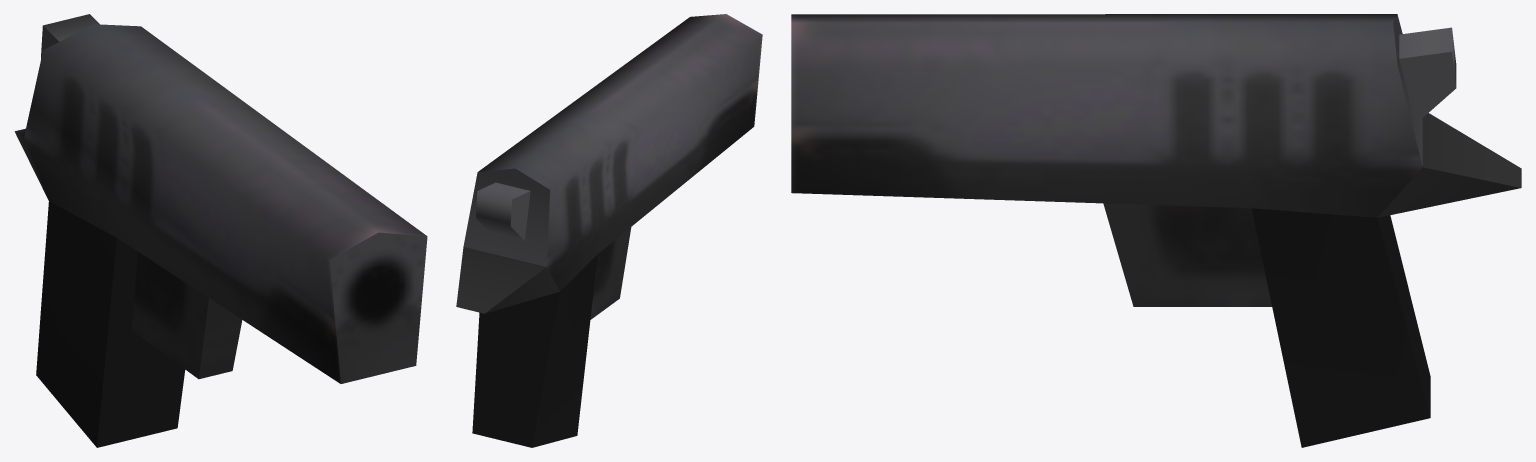
The model's file is w_handgun.FBX.
The picture shows the model from 3 angles, left to right: view 1: azimuth 30°, elevation 25°; view 2: azimuth 150°, elevation 25°; view 3: azimuth 270°, elevation 25°; orthographic projection. The views are drawn at different scales.
Parts seen in each view (by area): view 1: w_handgun; view 2: w_handgun; view 3: w_handgun.
Boxes of the visible parts, bbox=[...] form: w_handgun: bbox=[14, 14, 427, 447]; w_handgun: bbox=[456, 14, 762, 447]; w_handgun: bbox=[791, 14, 1521, 447].
Size of the model in its own units: 4.05 by 13.19 by 21.58.
Materials: 1 (1 with a texture image).
